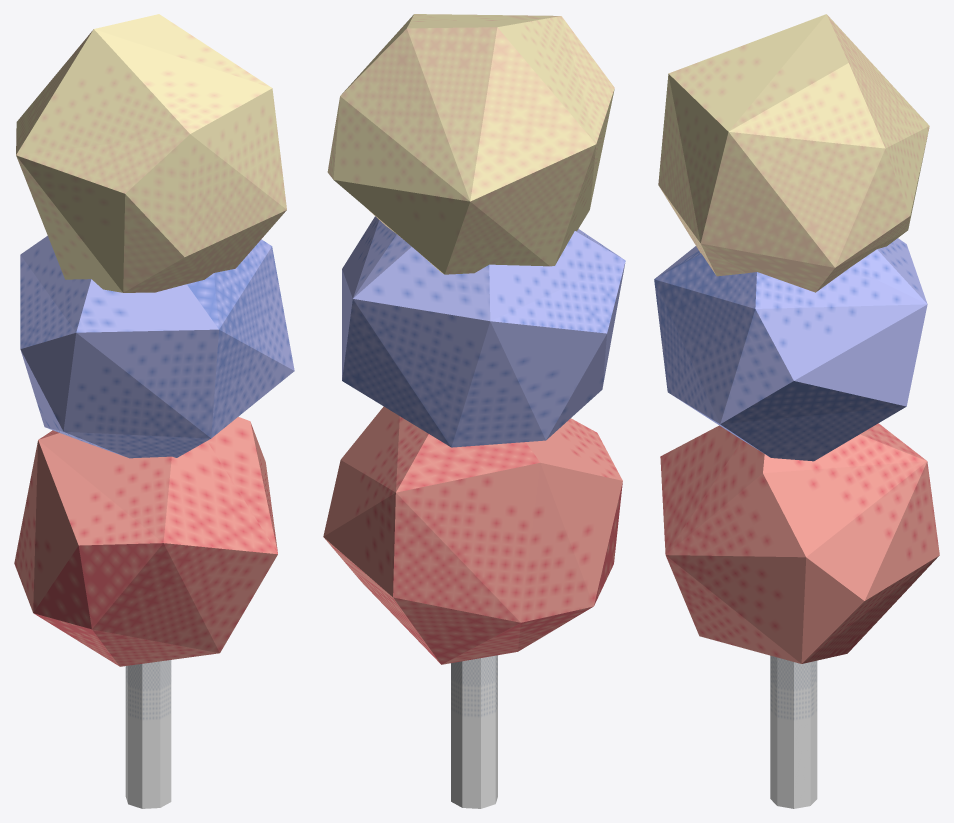
Rendered from CottenCandy.dae.
The picture shows the model from 3 angles, left to right: view 1: azimuth 30°, elevation 25°; view 2: azimuth 150°, elevation 25°; view 3: azimuth 270°, elevation 25°; orthographic projection. The views are drawn at different scales.
Parts seen in each view (by area): view 1: CottonCandy; view 2: CottonCandy; view 3: CottonCandy.
Part boxes in pixels (x1,y1,x2,y2): CottonCandy: (14, 14, 294, 808); CottonCandy: (323, 14, 625, 808); CottonCandy: (654, 14, 939, 808).
Size of the model in its own units: 0.7556 by 0.7308 by 2.16.
